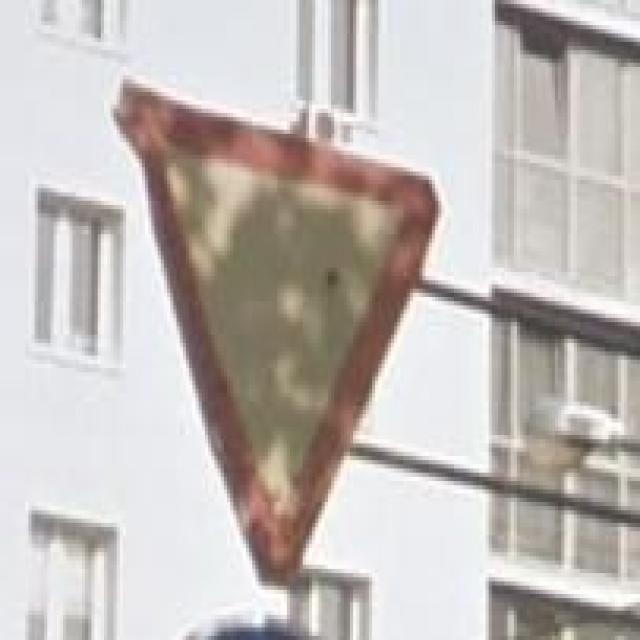traffic_sign: (114, 79, 438, 594)
